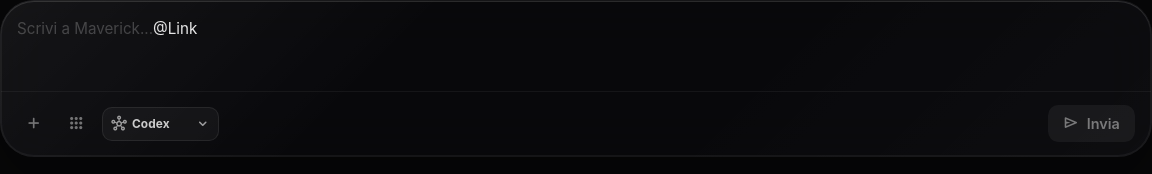
Test: ChatComposer reference search › renders checklist entity search results after typing an @ query
Clear the field labelled "@Link" at (175, 28), box [153,19,197,38]
Wait 180 ms
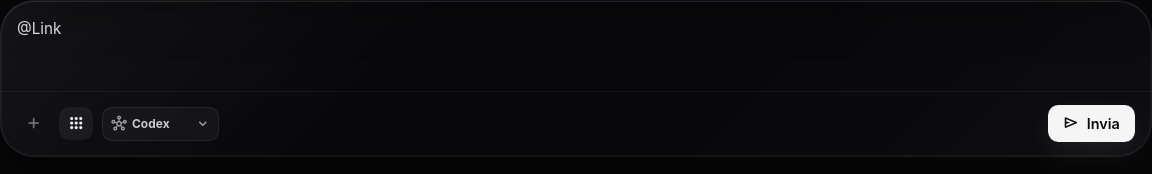
Check: the text "@Link checklist nella chat con @" is shown
